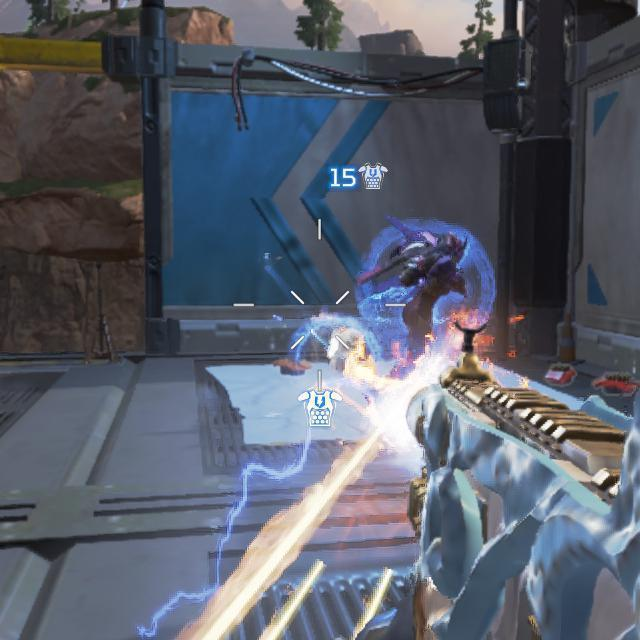avatar: (386, 230, 472, 383)
